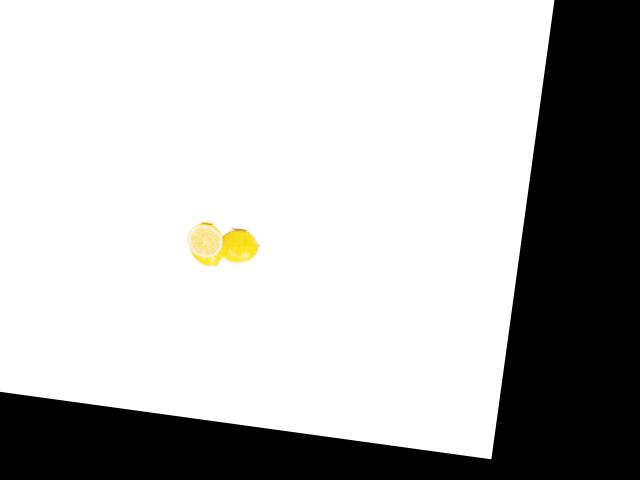lemon: (179, 229, 227, 271)
